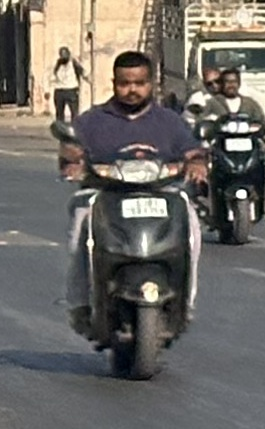BikeWithRider: (48, 51, 206, 376), (192, 65, 265, 247)
NoHelmet: (111, 52, 156, 109), (220, 67, 243, 98), (202, 67, 224, 94)
